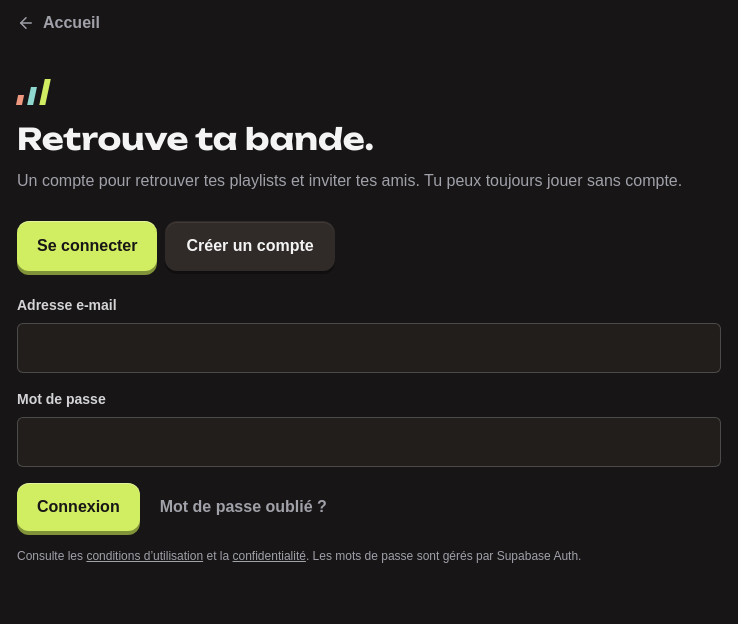
account access and recovery › reports a failed login safely and allows retry
This screenshot has width=738, height=624.
Type "nina@example.test" into the field labelled "Adresse e-mail".
click(369, 348); type("nina@example.test")  # box top-left (17, 323), bottom-right (721, 373)
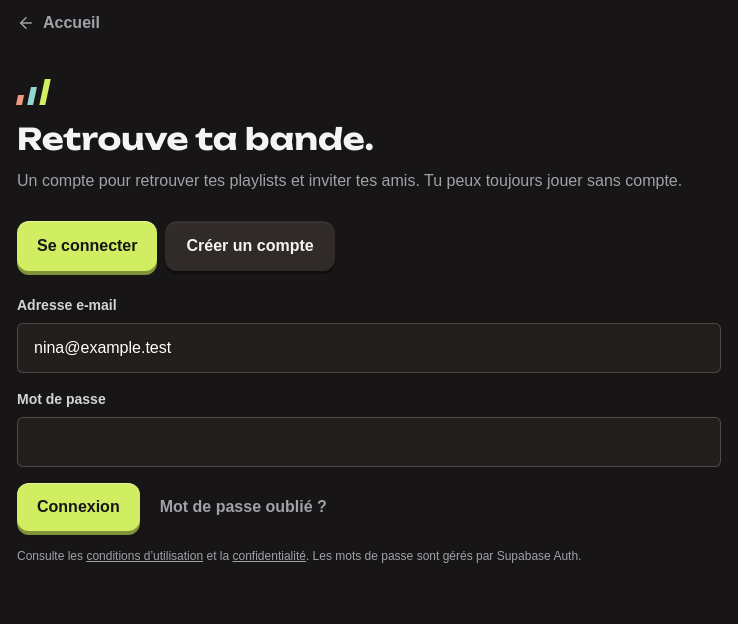
Type "wrong-password" into the password field labelled "Mot de passe".
click(369, 442); type("wrong-password")  # box top-left (17, 417), bottom-right (721, 467)
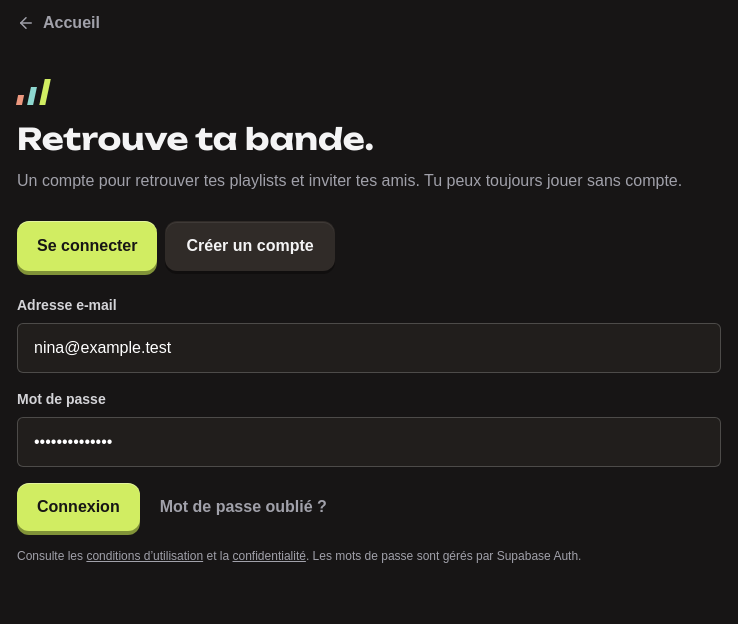
Click the button "Connexion".
click(78, 507)  # box top-left (17, 483), bottom-right (140, 531)
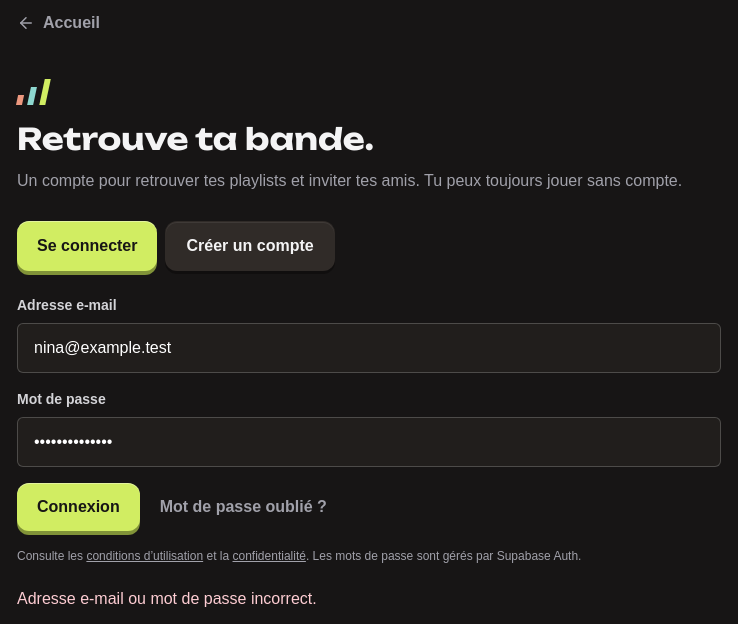
expect the message reads "Adresse e-mail ou mot de passe incorrect.": met, box top-left (17, 590), bottom-right (317, 607)
